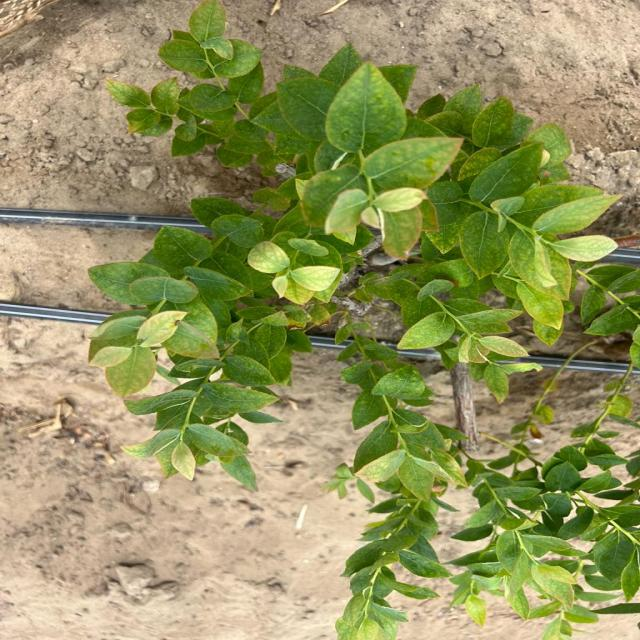Hojas sanas sin oidiosis: (84, 260, 199, 306), (466, 141, 546, 206), (458, 211, 510, 280)
